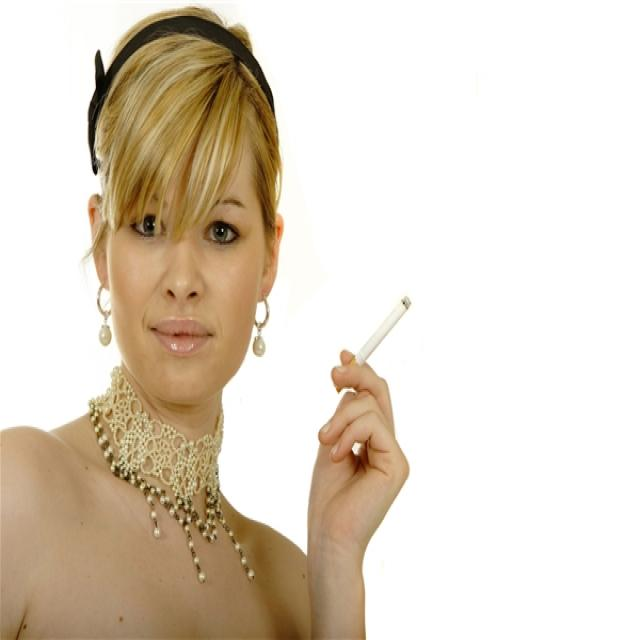smoking: (347, 294, 411, 386)
